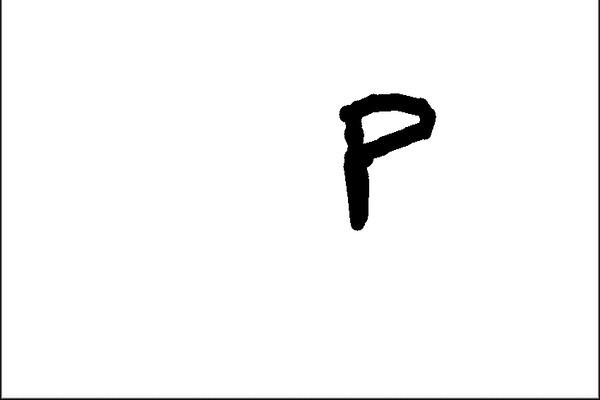P: (325, 80, 442, 240)
